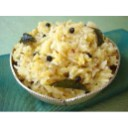venpongal: (15, 25, 108, 91)
